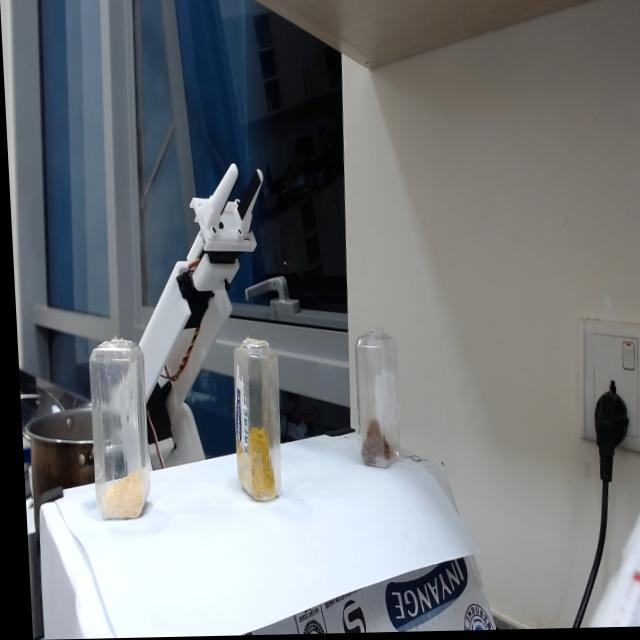curry_powder: (236, 434, 275, 505)
garlic_powder: (96, 475, 144, 518)
maggie_open: (357, 419, 389, 474)
